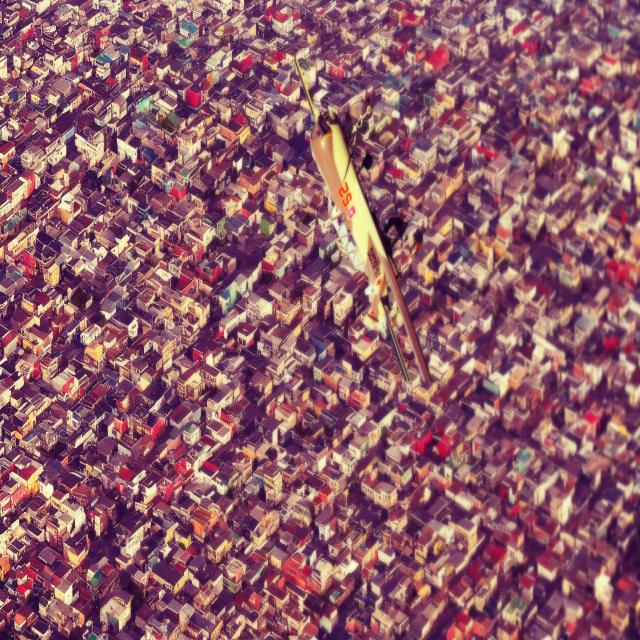airplane: (293, 54, 432, 390)
